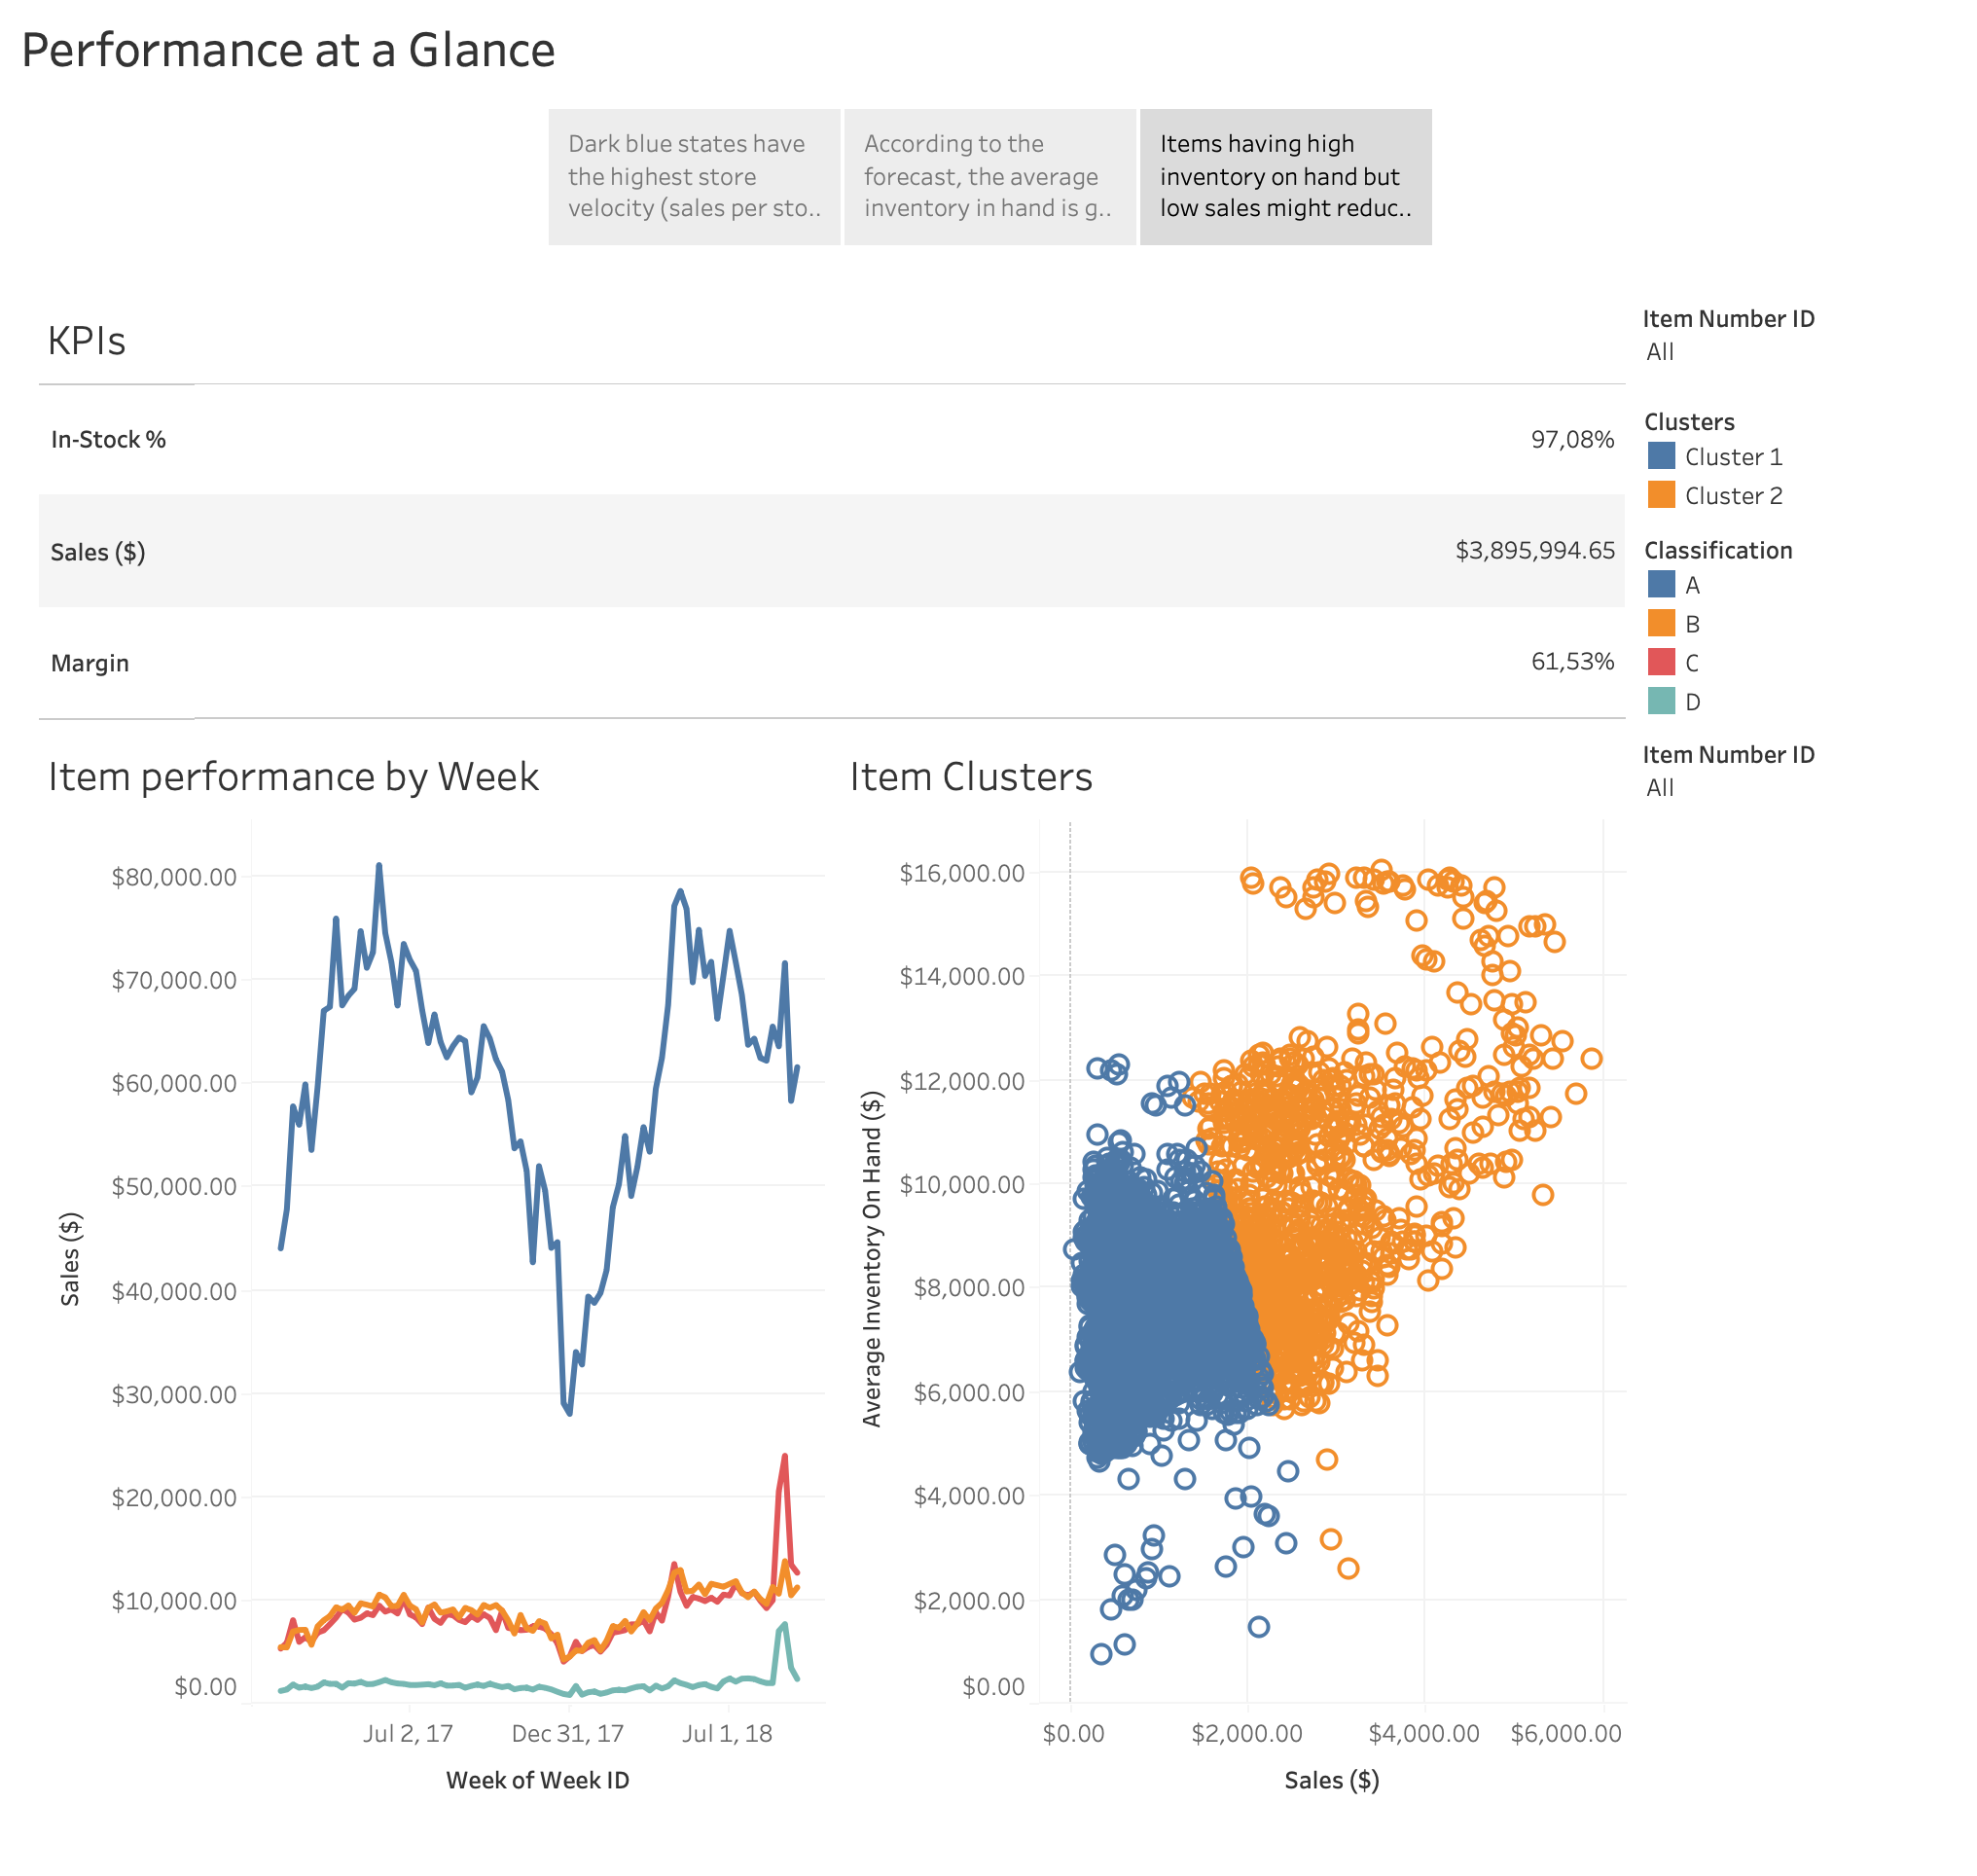

This screenshot's page, from the dashboard's own definition file:
{"tool":"tableau","page":{"name":"Item Performance","canvas":[1000,800],"ordinal":0},"visuals":[{"type":"worksheet","title":"KPI 2","mark":"Automatic","box":[8,8,824,224]},{"type":"filter","title":"Item Clusters","param":"[federated.14cjw921thnt6q15we8bi1tz5f0t].[none:Item Number ID:nk]","box":[832,8,160,52]},{"type":"legend","title":"Item Clusters","param":"[federated.14cjw921thnt6q15we8bi1tz5f0t].[none:AdhocCluster:1:ok]","box":[832,60,160,66]},{"type":"legend","title":"Sheet 12","param":"[federated.1tcmah61hcjdao0zsqtpu1oh8hsa].[none:Classification:nk]","box":[832,126,160,106]},{"type":"worksheet","title":"Sheet 12","mark":"Automatic","rows":["Sales ($)"],"cols":["Week ID"],"box":[8,232,412,560]},{"type":"worksheet","title":"Item Clusters","mark":"Automatic","rows":["Average Inventory On Hand ($)"],"cols":["Sales ($)"],"box":[420,232,412,560]},{"type":"filter","title":"KPI 2","param":"[federated.1tcmah61hcjdao0zsqtpu1oh8hsa].[none:Item Number ID:nk]","box":[832,232,160,52]}]}

Visuals, with their boxes on the page's 1000x800 design canvas (x1, y1, x2, y2). These are canvas units, not pixel positions in the 1977x1876 screenshot, which may show the page scaled, cropped or inside an application window:
"KPI 2" worksheet: (8,8,832,232)
"Item Clusters" filter: (832,8,992,60)
"Item Clusters" legend: (832,60,992,126)
"Sheet 12" legend: (832,126,992,232)
"Sheet 12" worksheet: (8,232,420,792)
"Item Clusters" worksheet: (420,232,832,792)
"KPI 2" filter: (832,232,992,284)
